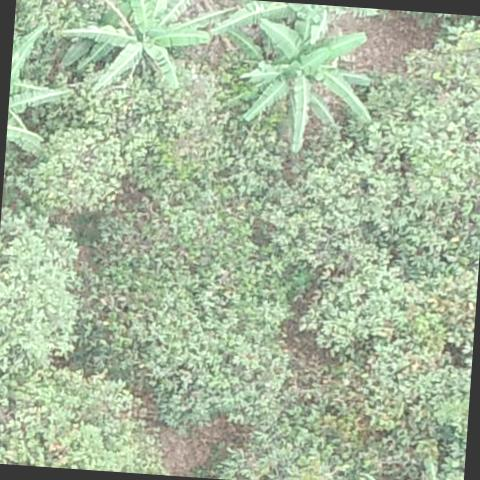Banana-plant: (219, 0, 381, 159), (49, 0, 236, 106)
